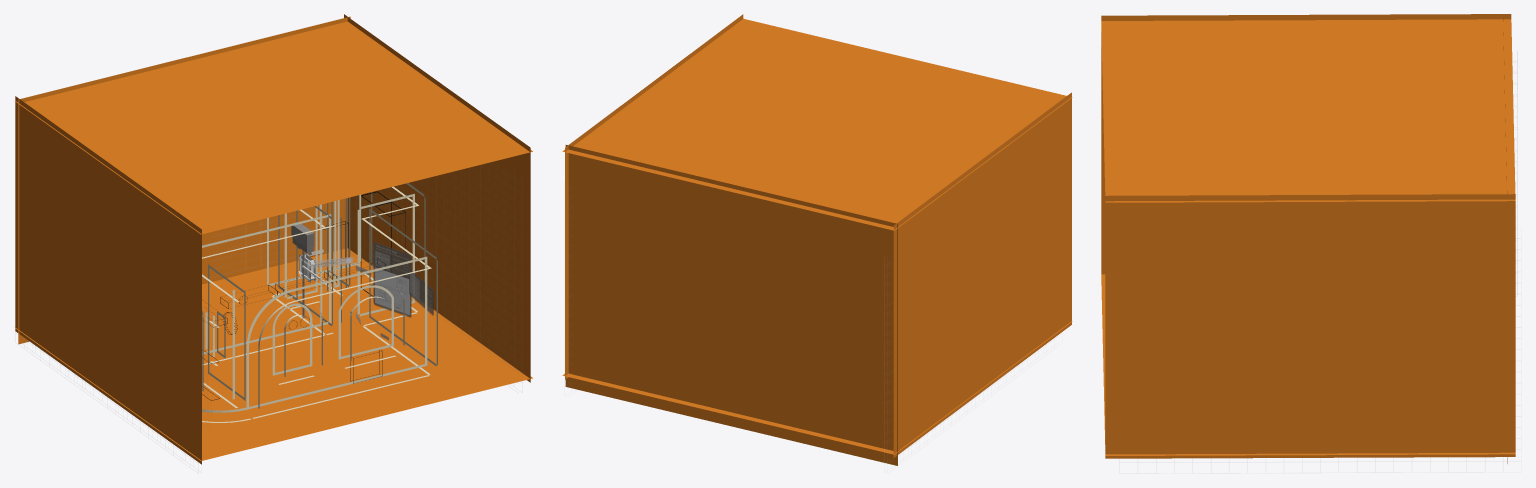
The model's file is roomLeft3.glb.
3 views of the same model, side by side, from view 1: azimuth 30°, elevation 25°; view 2: azimuth 150°, elevation 25°; view 3: azimuth 270°, elevation 25° (orthographic). The views are drawn at different scales.
Parts seen in each view (by area): view 1: Plane.027, Plane.026, Plane.028, Plane.025, posta_v1.005, Plane.024, description2, prices, Cube.012; view 2: Plane.024, Plane.027, Plane.026, Plane.025, Plane.028; view 3: Plane.025, Plane.027, Plane.026, Plane.028.
Boxes of the visible parts, x1=… form: Plane.027: x1=15, y1=21, x2=532, y2=234; Plane.026: x1=15, y1=96, x2=201, y2=464; Plane.028: x1=15, y1=248, x2=532, y2=460; Plane.025: x1=344, y1=14, x2=530, y2=382; posta_v1.005: x1=202, y1=183, x2=437, y2=422; Plane.024: x1=18, y1=16, x2=350, y2=344; description2: x1=373, y1=242, x2=411, y2=317; prices: x1=409, y1=269, x2=433, y2=315; Cube.012: x1=291, y1=221, x2=314, y2=255; Plane.024: x1=565, y1=145, x2=897, y2=465; Plane.027: x1=562, y1=18, x2=1072, y2=230; Plane.026: x1=893, y1=92, x2=1071, y2=457; Plane.025: x1=565, y1=14, x2=743, y2=379; Plane.028: x1=562, y1=321, x2=1072, y2=454; Plane.025: x1=1105, y1=194, x2=1515, y2=458; Plane.027: x1=1101, y1=19, x2=1515, y2=202; Plane.026: x1=1101, y1=14, x2=1511, y2=274; Plane.028: x1=1101, y1=274, x2=1515, y2=455.
Bounding box in the file's own units: 49.3 × 35.54 × 47.63.
Materials: 36 (18 with a texture image).
